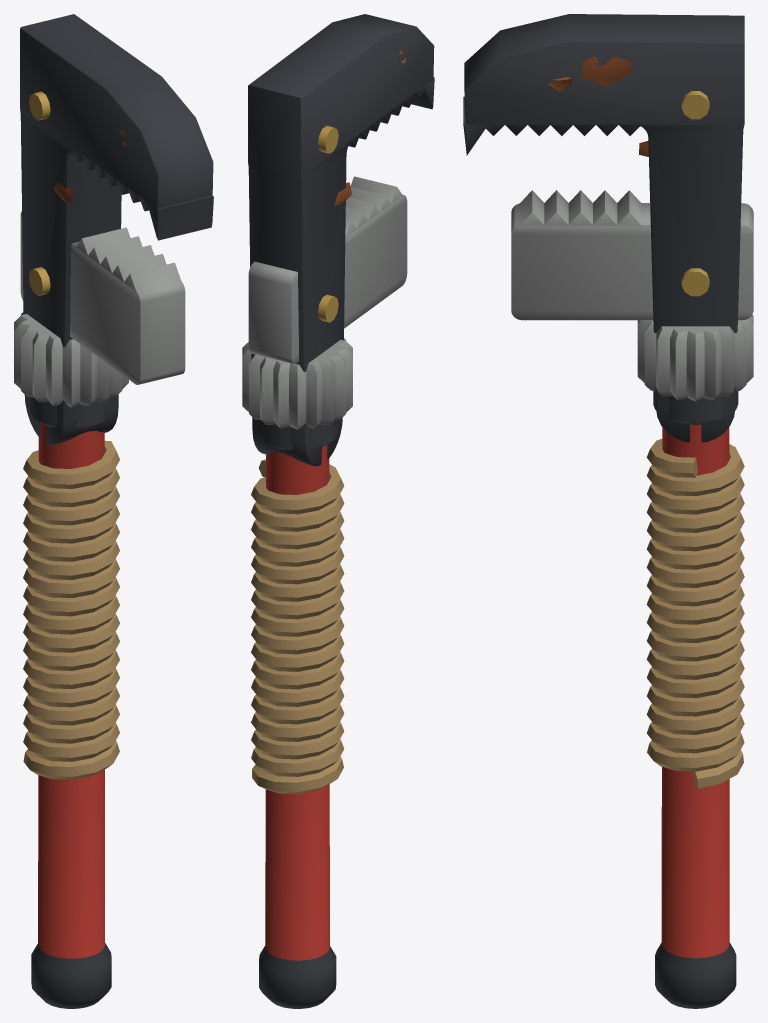
Rendered from tool_pipewrench.fbx.
The picture shows the model from 3 angles, left to right: view 1: azimuth 30°, elevation 25°; view 2: azimuth 150°, elevation 25°; view 3: azimuth 270°, elevation 25°; orthographic projection. The views are drawn at different scales.
Visible parts, largest first — view 1: Tool_PipeWrench_Head, Tool_PipeWrench_Wrap, Tool_PipeWrench_HeelJaw, Tool_PipeWrench_Handle; view 2: Tool_PipeWrench_Head, Tool_PipeWrench_Wrap, Tool_PipeWrench_HeelJaw, Tool_PipeWrench_Handle; view 3: Tool_PipeWrench_Head, Tool_PipeWrench_Wrap, Tool_PipeWrench_HeelJaw, Tool_PipeWrench_Handle.
Boxes of the visible parts, box(x1,y1,x2,y2) form: Tool_PipeWrench_Head: box(20, 14, 213, 445); Tool_PipeWrench_Wrap: box(23, 440, 119, 779); Tool_PipeWrench_HeelJaw: box(14, 211, 185, 407); Tool_PipeWrench_Handle: box(29, 397, 111, 1008); Tool_PipeWrench_Head: box(248, 14, 434, 466); Tool_PipeWrench_Wrap: box(251, 459, 344, 793); Tool_PipeWrench_HeelJaw: box(242, 176, 407, 429); Tool_PipeWrench_Handle: box(259, 420, 337, 1008); Tool_PipeWrench_Head: box(463, 14, 744, 442); Tool_PipeWrench_Wrap: box(646, 439, 744, 788); Tool_PipeWrench_HeelJaw: box(511, 190, 753, 401); Tool_PipeWrench_Handle: box(653, 391, 738, 1008).
Bounding box in the file's own units: 6.52 × 59.1 × 16.06.
